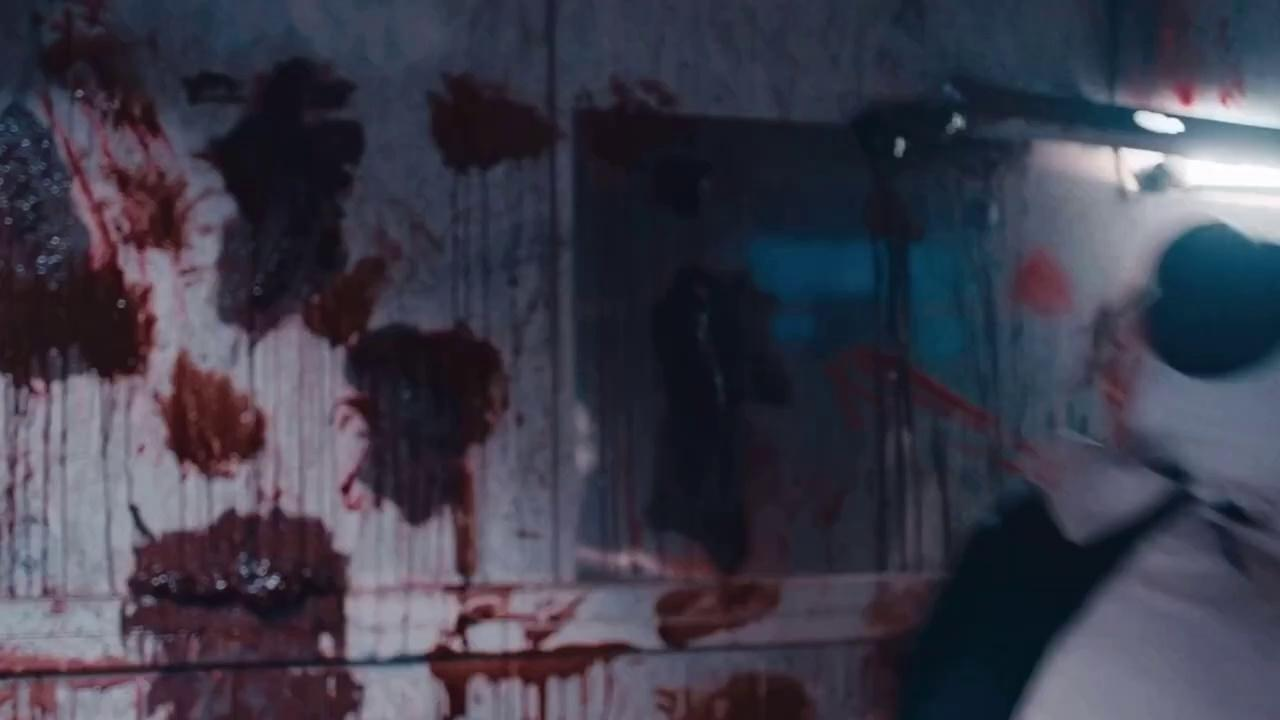Fire: (0, 7, 1075, 719), (1094, 305, 1138, 433)
